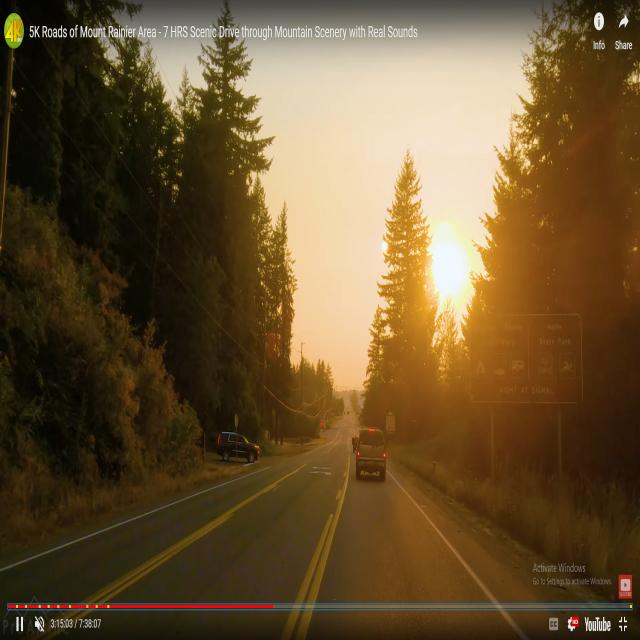sun: (425, 219, 478, 312)
